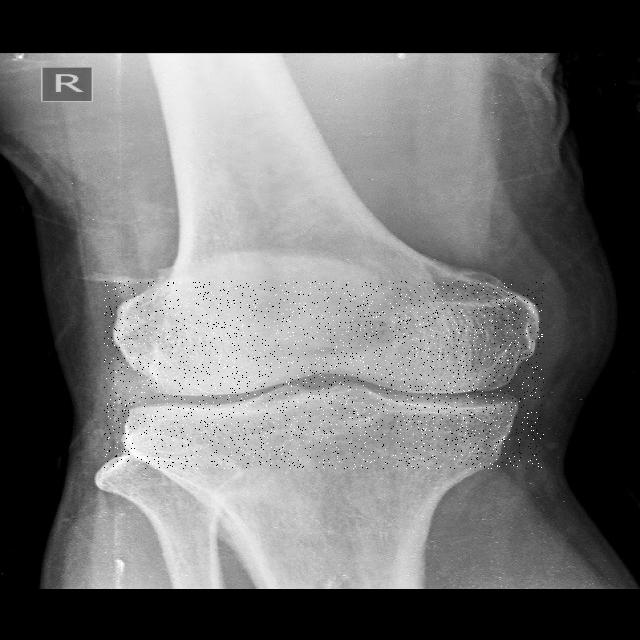osteo: (104, 281, 544, 469)
